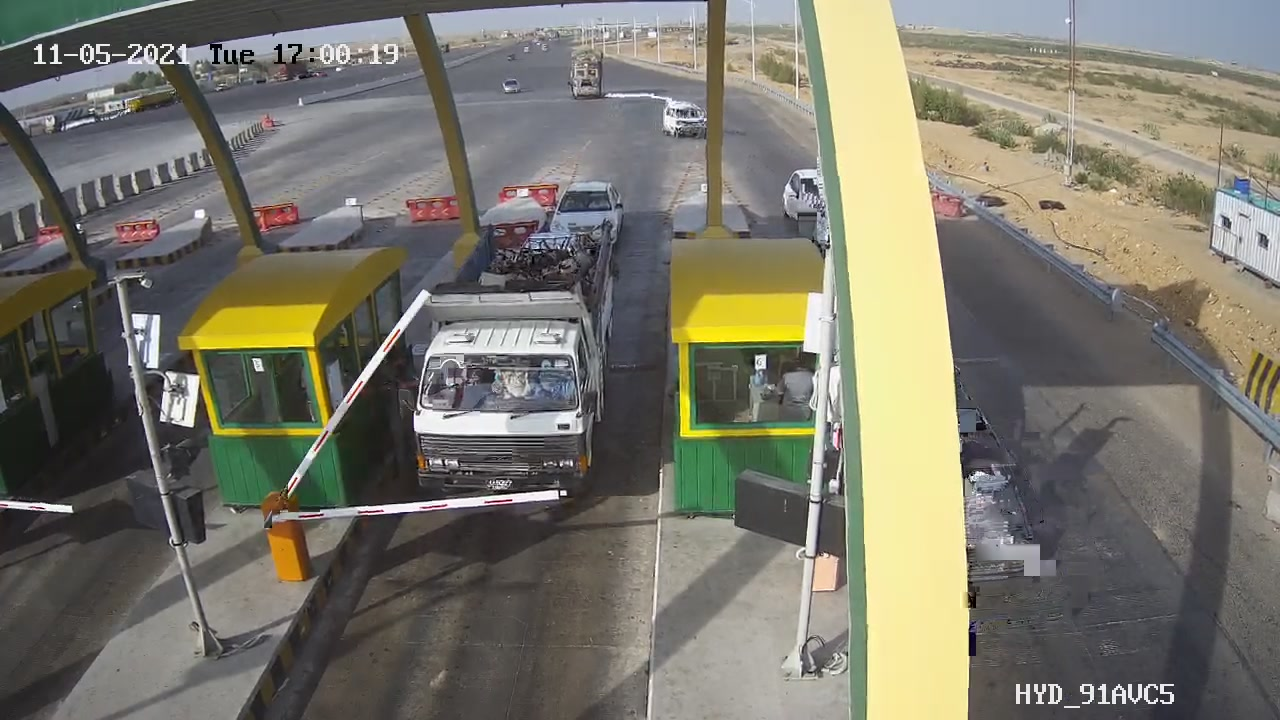F3: (382, 212, 642, 527)
